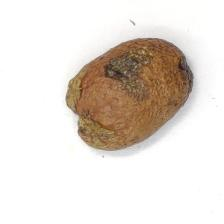NG: (102, 43, 151, 103), (72, 113, 123, 149), (67, 65, 90, 109), (175, 50, 195, 89)
